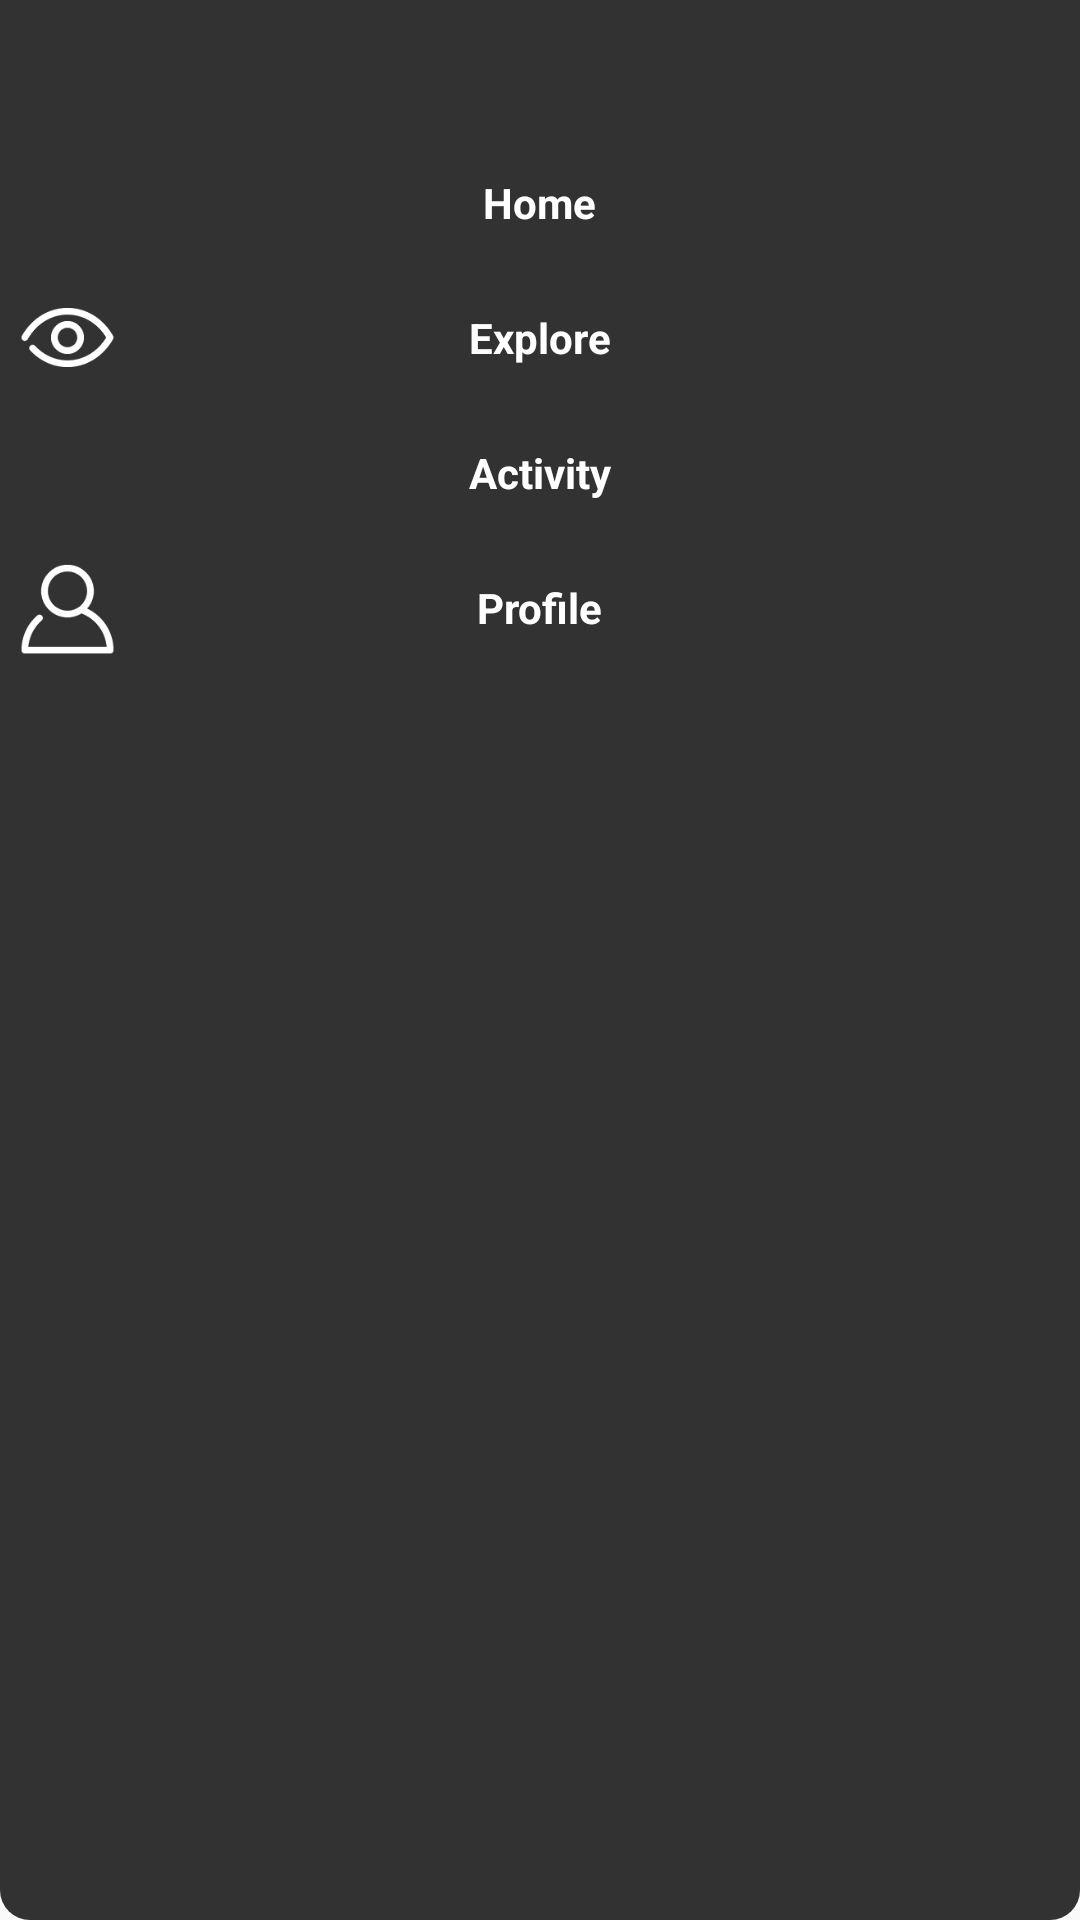

Where to tap for icons on this 1080px x 1920px app screen, as point (x, y):
explore: point (67, 337)
profile: point (67, 609)
